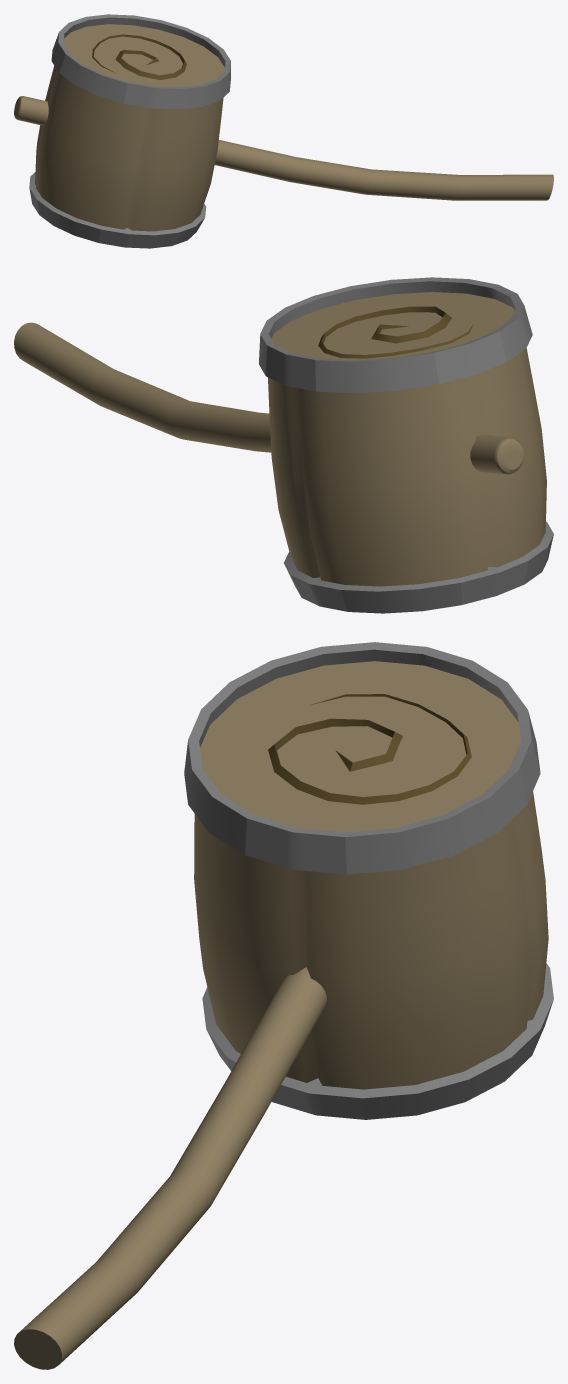
File: wackerHammerObj.fbx
3 renders of one model, top to bottom at view 1: azimuth 30°, elevation 25°; view 2: azimuth 150°, elevation 25°; view 3: azimuth 270°, elevation 25°, orthographic. The views are drawn at different scales.
Parts seen in each view (by area): view 1: HammerHead, HammerHandle, Hammerdetailtop; view 2: HammerHead, HammerHandle, Hammerdetailtop; view 3: HammerHead, HammerHandle, Hammerdetailtop.
Boxes of the visible parts, x1,y1,x2,y2 form: HammerHead: (29, 14, 230, 248); HammerHandle: (14, 96, 553, 200); Hammerdetailtop: (92, 34, 186, 79); HammerHead: (259, 277, 553, 613); HammerHandle: (14, 322, 524, 474); Hammerdetailtop: (318, 306, 473, 358); HammerHead: (184, 642, 553, 1119); HammerHandle: (14, 967, 326, 1369); Hammerdetailtop: (268, 694, 471, 804).
Size of the model in its own units: 0.1017 by 0.0413 by 0.0558.
